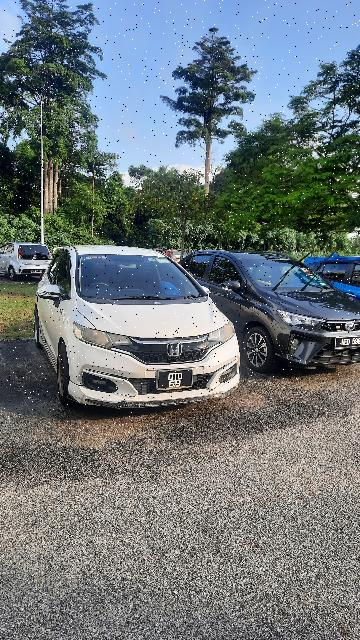License_Plate: (155, 369, 195, 391), (335, 336, 360, 351)
car: (30, 246, 246, 417), (182, 245, 360, 379)
